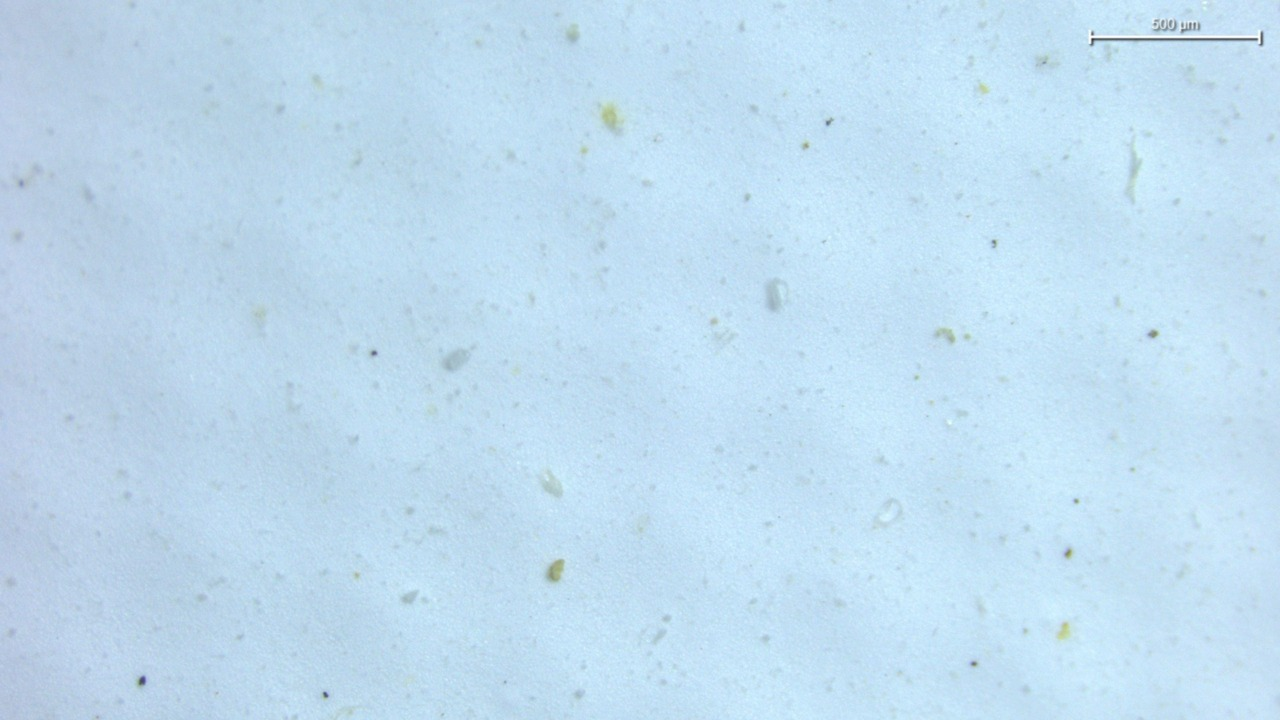microplastic_fragment: (765, 278, 788, 312), (540, 469, 562, 498)
